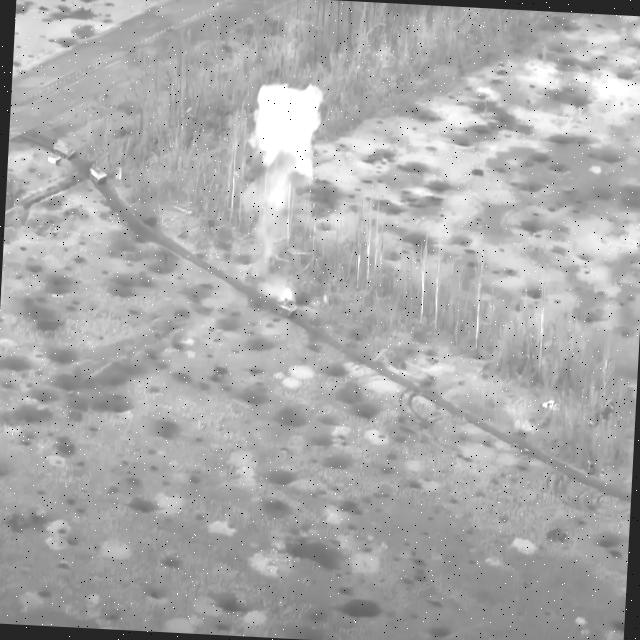AIFV: (88, 162, 110, 192), (277, 295, 301, 322)
APC: (53, 137, 79, 165)
